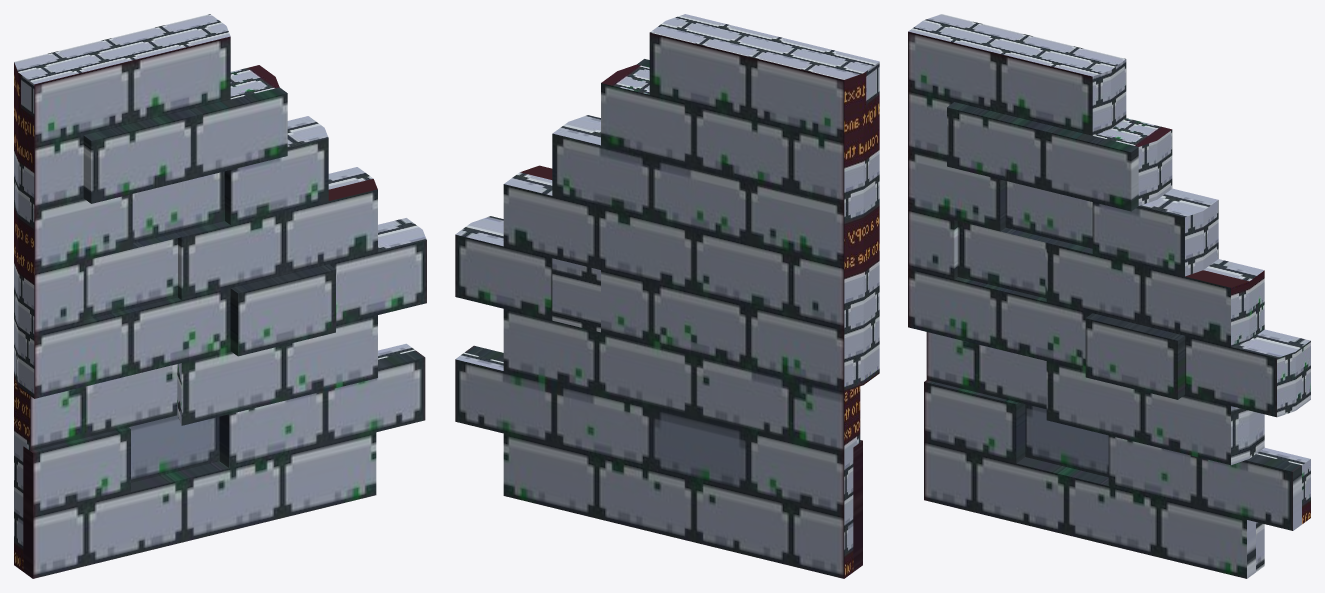
Rendered from TestWall2.fbx.
3 renders of one model, left to right at view 1: azimuth 30°, elevation 25°; view 2: azimuth 150°, elevation 25°; view 3: azimuth 330°, elevation 25°, orthographic. The views are drawn at different scales.
Visible parts, largest first — view 1: testPixel.001; view 2: testPixel.001; view 3: testPixel.001.
Part boxes in pixels (left/top/right/bottom): testPixel.001: left=14, top=14, right=426, bottom=578; testPixel.001: left=455, top=14, right=879, bottom=578; testPixel.001: left=908, top=14, right=1310, bottom=578.
Size of the model in its own units: 83.21 by 100 by 12.95.
Materials: 1 (1 with a texture image).
